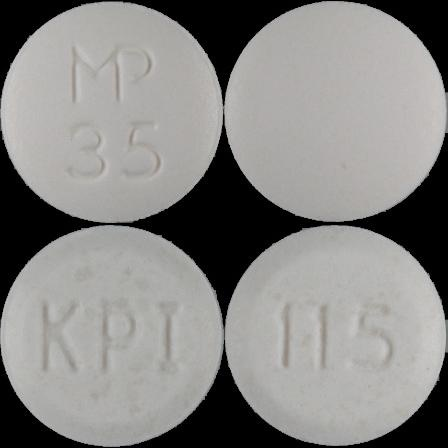60760-981: (0, 0, 224, 224)
